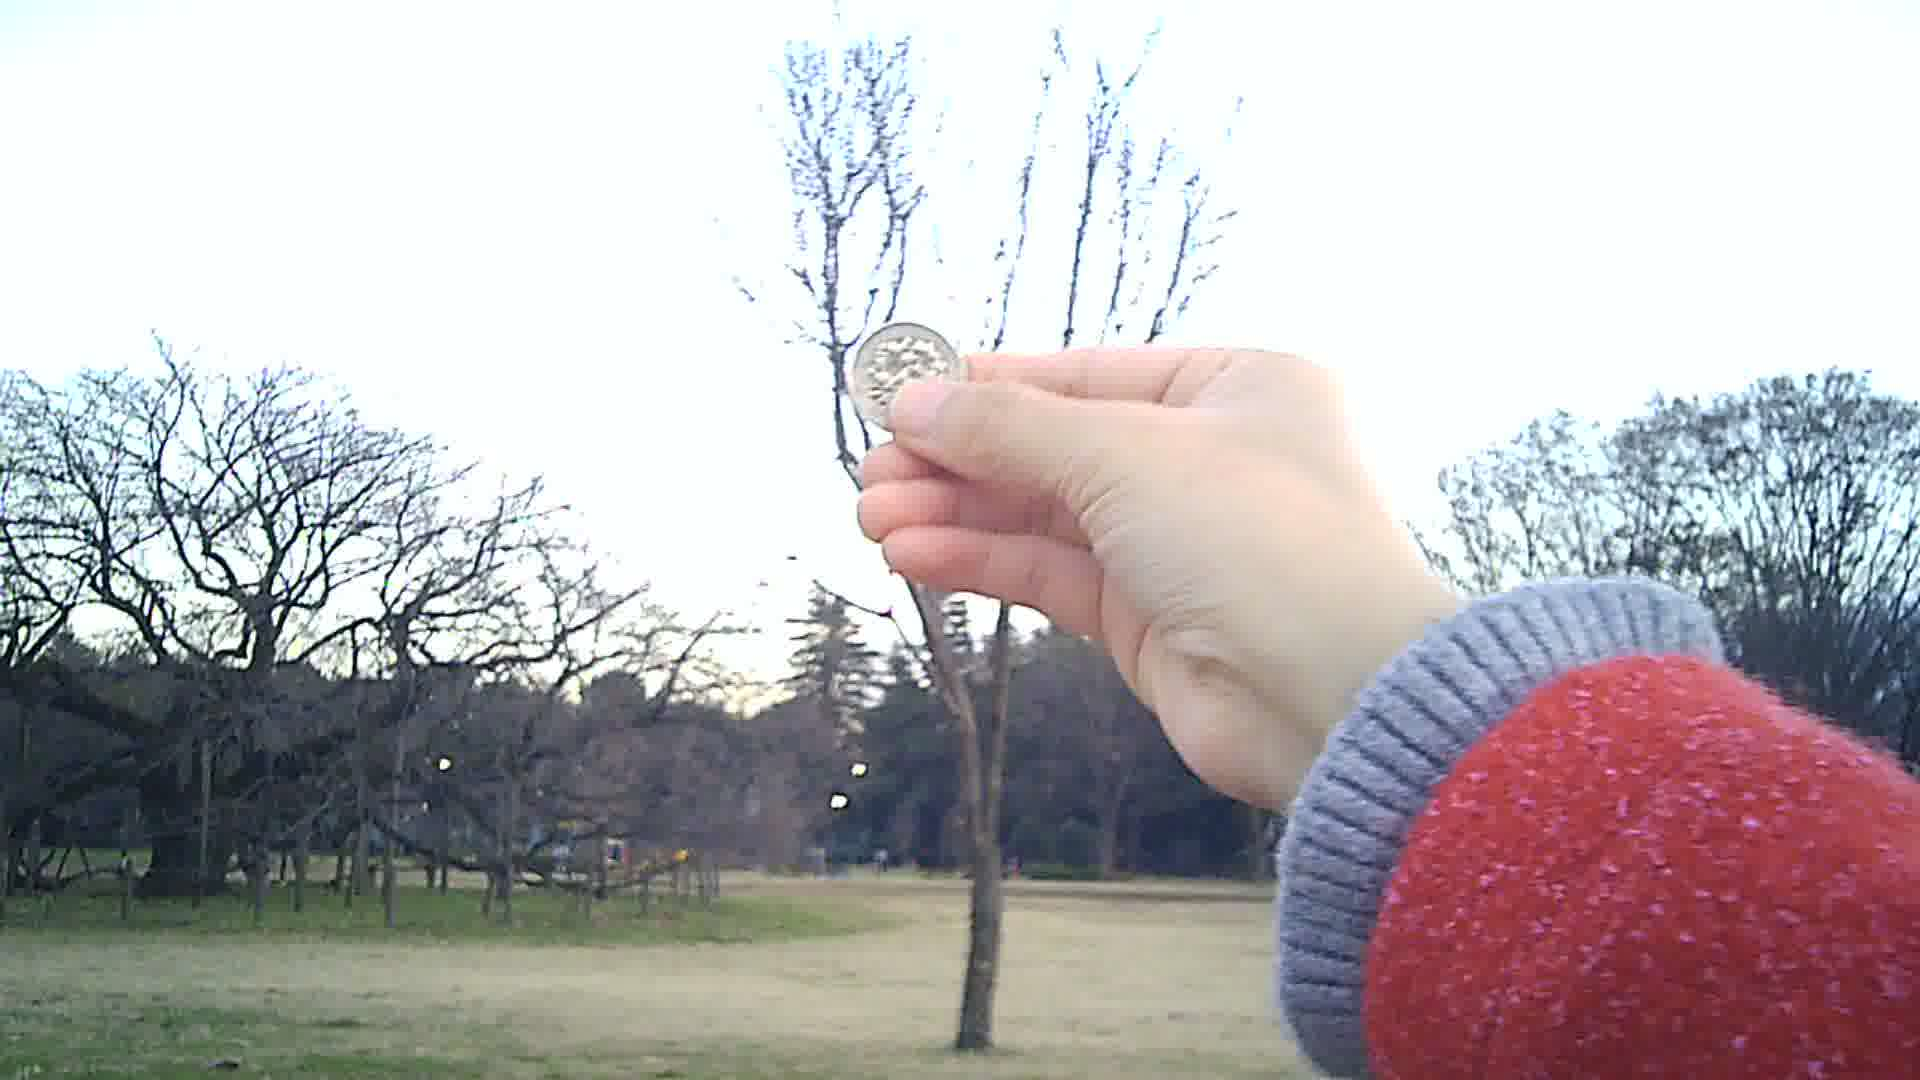100 Yen: (853, 320, 971, 440)
